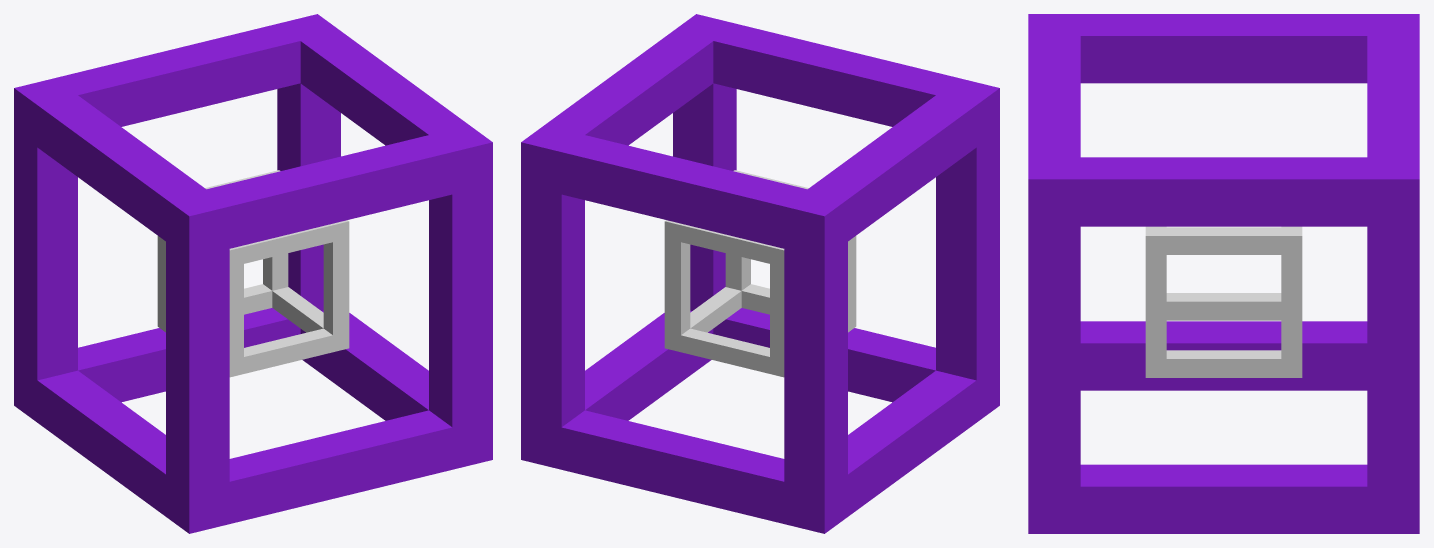
Rendered from hero.fbx.
The picture shows the model from 3 angles, left to right: view 1: azimuth 30°, elevation 25°; view 2: azimuth 150°, elevation 25°; view 3: azimuth 270°, elevation 25°; orthographic projection. The views are drawn at different scales.
Parts seen in each view (by area): view 1: Cube, Cube.001; view 2: Cube, Cube.001; view 3: Cube, Cube.001.
Part boxes in pixels (x1=…): Cube: x1=14, y1=14, x2=492, y2=533; Cube.001: x1=157, y1=170, x2=349, y2=377; Cube: x1=521, y1=14, x2=999, y2=533; Cube.001: x1=664, y1=170, x2=856, y2=377; Cube: x1=1028, y1=14, x2=1419, y2=533; Cube.001: x1=1145, y1=226, x2=1302, y2=377.
Bounding box in the file's own units: 200 × 200 × 200.
